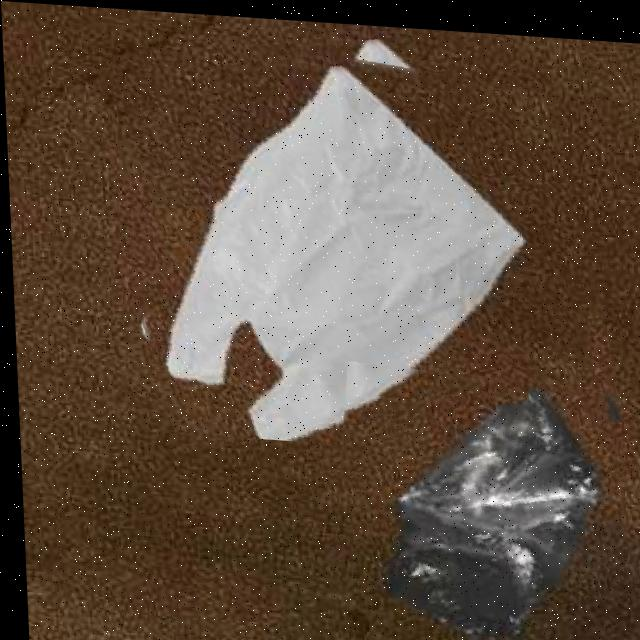plasticcover: (109, 9, 606, 453), (312, 354, 626, 640)
